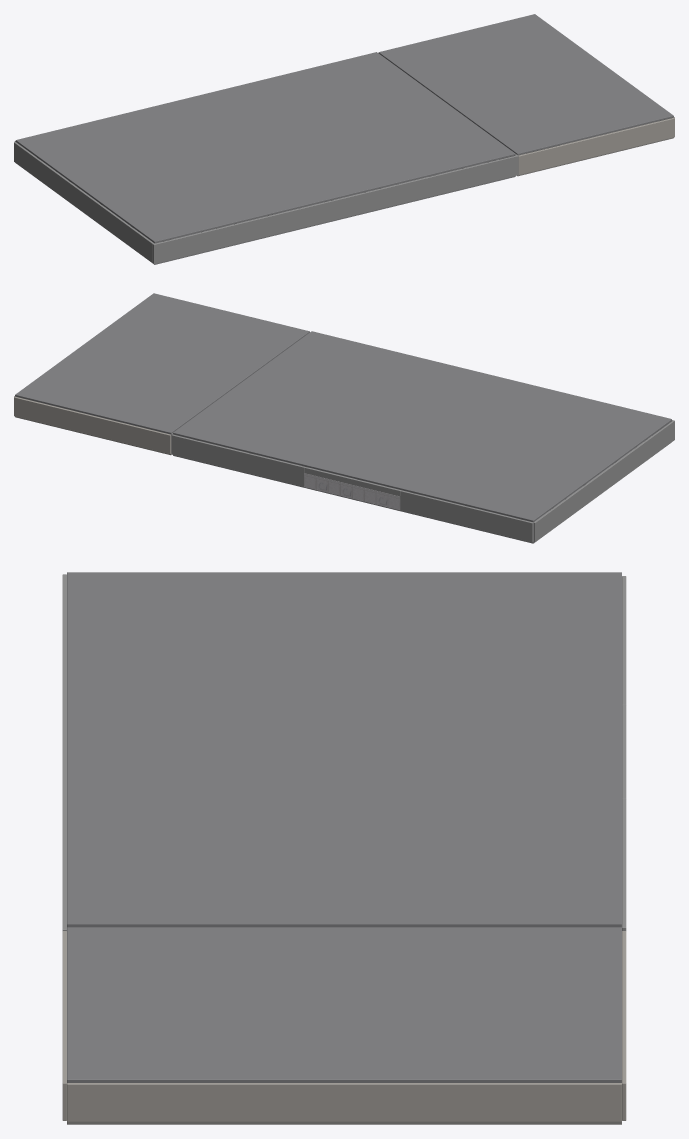
File: parking_garage.gltf
3 renders of one model, top to bottom at view 1: azimuth 30°, elevation 25°; view 2: azimuth 150°, elevation 25°; view 3: azimuth 270°, elevation 25°, orthographic. The views are drawn at different scales.
Visible parts, largest first — view 1: Ceiling, Walls_Concrete, Walls_Plaster, Floor_Parking; view 2: Ceiling, Walls_Concrete, Walls_Plaster, Entrance_Shutter, Floor_Parking; view 3: Ceiling, Walls_Plaster, Walls_Concrete, Floor_Annex.
Boxes of the visible parts, left/top/right/bottom form: Ceiling: left=15, top=14, right=673, bottom=243; Walls_Concrete: left=14, top=141, right=518, bottom=263; Walls_Plaster: left=518, top=117, right=674, bottom=174; Floor_Parking: left=24, top=157, right=515, bottom=264; Ceiling: left=15, top=293, right=671, bottom=522; Walls_Concrete: left=171, top=420, right=674, bottom=542; Walls_Plaster: left=14, top=396, right=170, bottom=453; Entrance_Shutter: left=304, top=473, right=400, bottom=510; Floor_Parking: left=173, top=442, right=667, bottom=543; Ceiling: left=67, top=572, right=621, bottom=1082; Walls_Plaster: left=62, top=931, right=626, bottom=1121; Walls_Concrete: left=62, top=574, right=626, bottom=930; Floor_Annex: left=67, top=1121, right=621, bottom=1124.
Bounding box in the file's own units: 86.75 × 3.7 × 40.6.
Materials: 9 (2 with a texture image).
